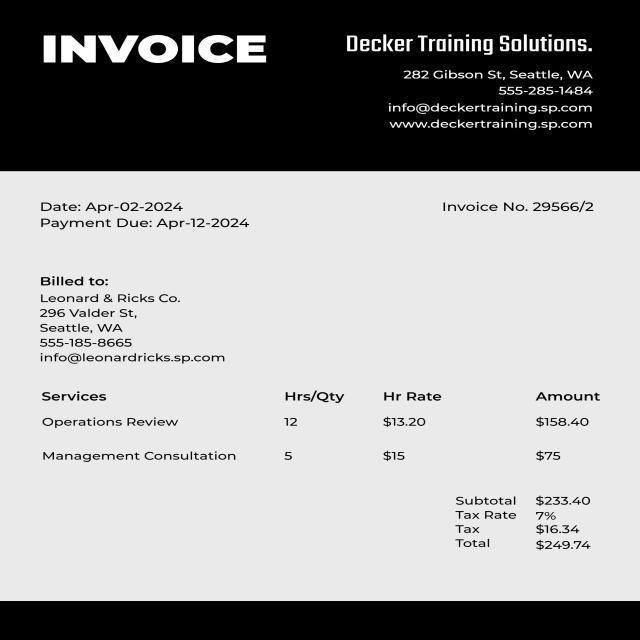paragraph: (336, 30, 613, 136), (32, 263, 240, 366), (439, 485, 609, 570), (34, 25, 272, 74), (36, 199, 257, 235), (438, 195, 605, 219)
table: (21, 372, 623, 478)
